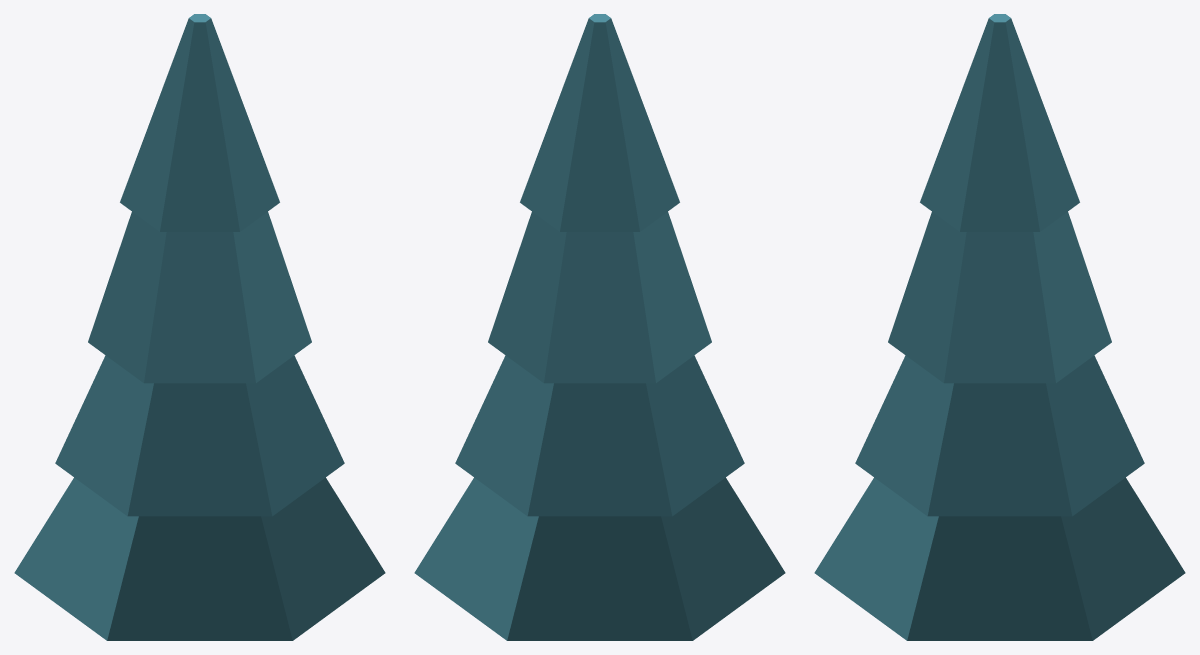
File: tree_pineSmall_round2.obj
3 views of the same model, side by side, from view 1: azimuth 30°, elevation 25°; view 2: azimuth 150°, elevation 25°; view 3: azimuth 270°, elevation 25° (orthographic).
Visible parts, largest first — view 1: tree_pineSmall_round2; view 2: tree_pineSmall_round2; view 3: tree_pineSmall_round2.
Part boxes in pixels (x1=…): tree_pineSmall_round2: x1=14, y1=14, x2=385, y2=640; tree_pineSmall_round2: x1=414, y1=14, x2=785, y2=640; tree_pineSmall_round2: x1=814, y1=14, x2=1185, y2=640.
Size of the model in its own units: 4.8 by 9.14 by 5.55.
